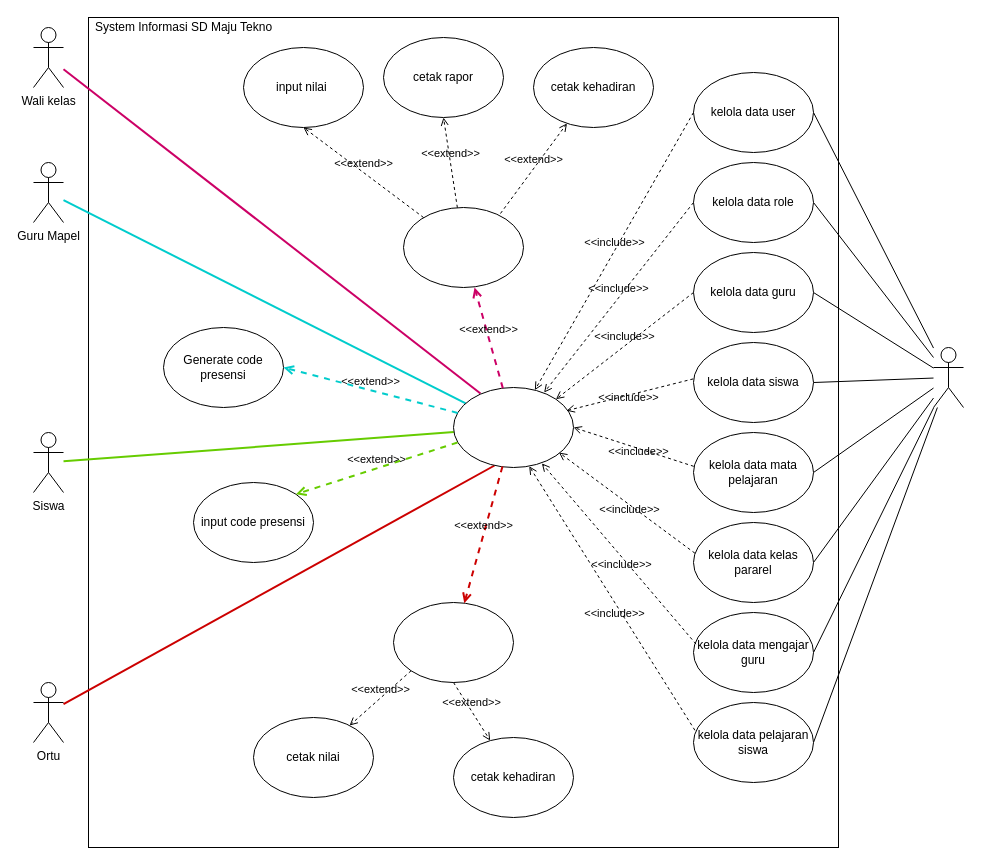
The diagram is 983 pixels wide and 865 high, and some of its shapes have lost their labels. Each missing label, with the box of its shape:
Admin: (932, 346, 964, 408)
Kelola Rapor: (402, 206, 524, 288)
laporan hasil pembeljaran: (392, 602, 514, 682)
Login: (452, 386, 574, 468)
